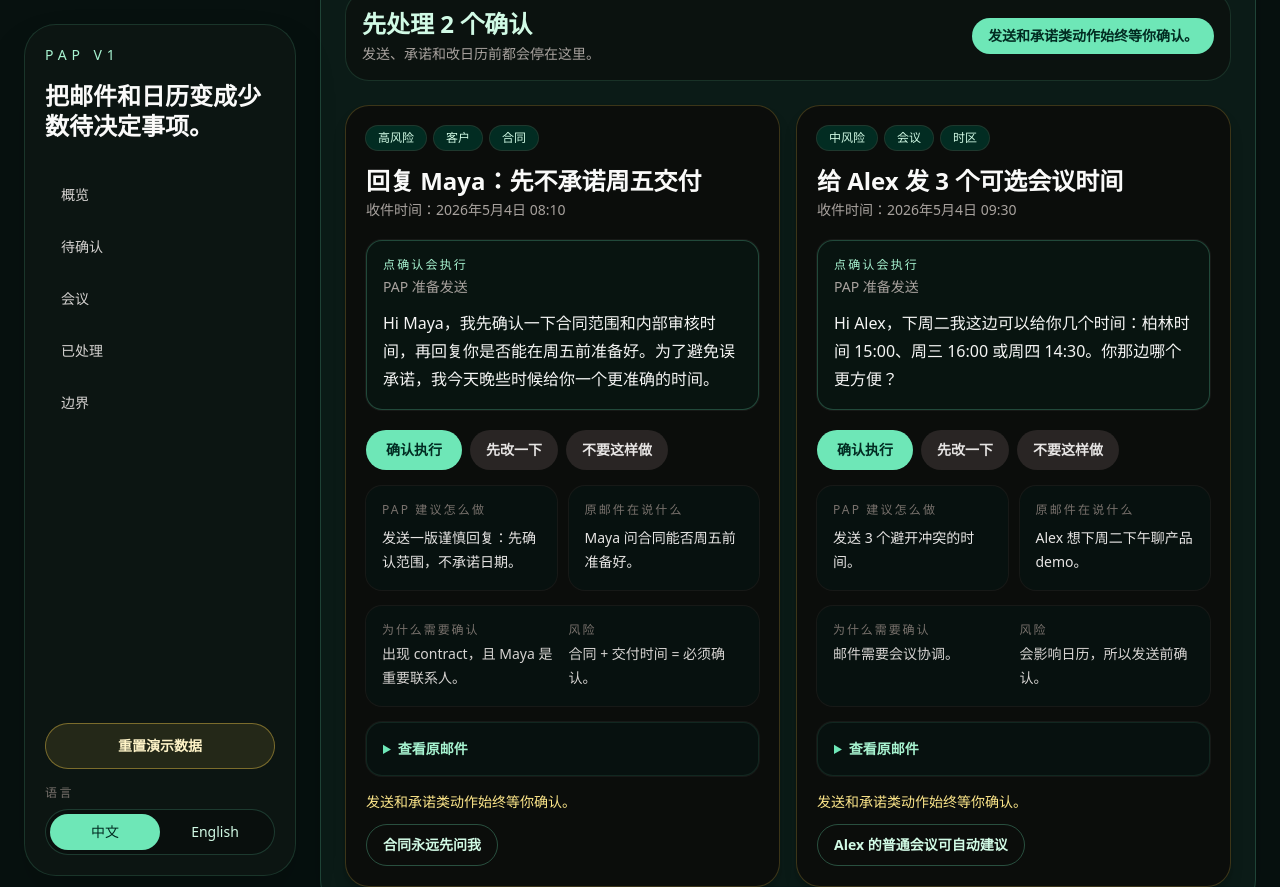
Test: PAP dashboard › edits a pending action
(page scrolled)
Click the 1st button "先改一下" at x=514, y=450, box top-left (470, 430), bottom-right (558, 470)
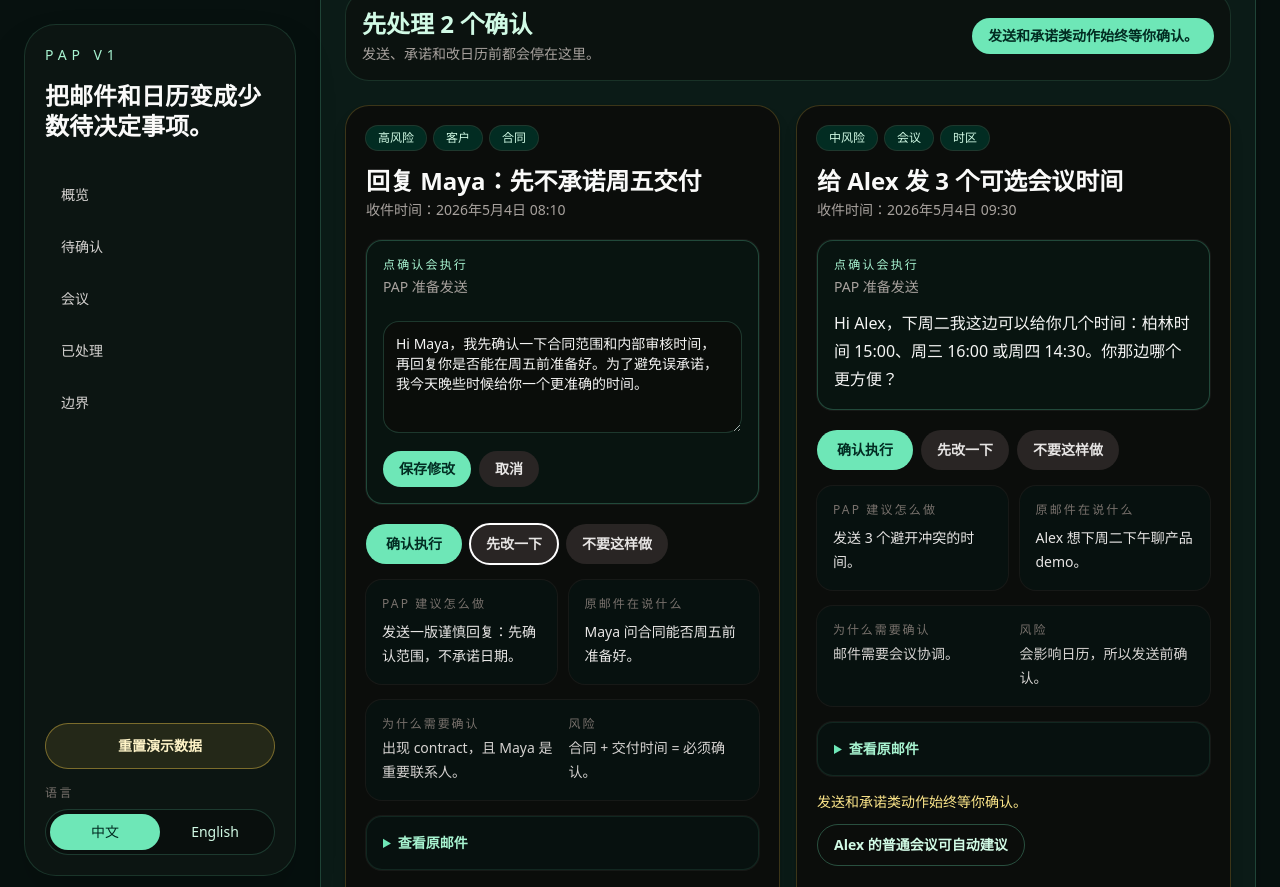
Replace the text in the text box named "修改建议内容" with "请先确认对方是否接受周三下午。" at x=562, y=377, box top-left (383, 321), bottom-right (742, 433)
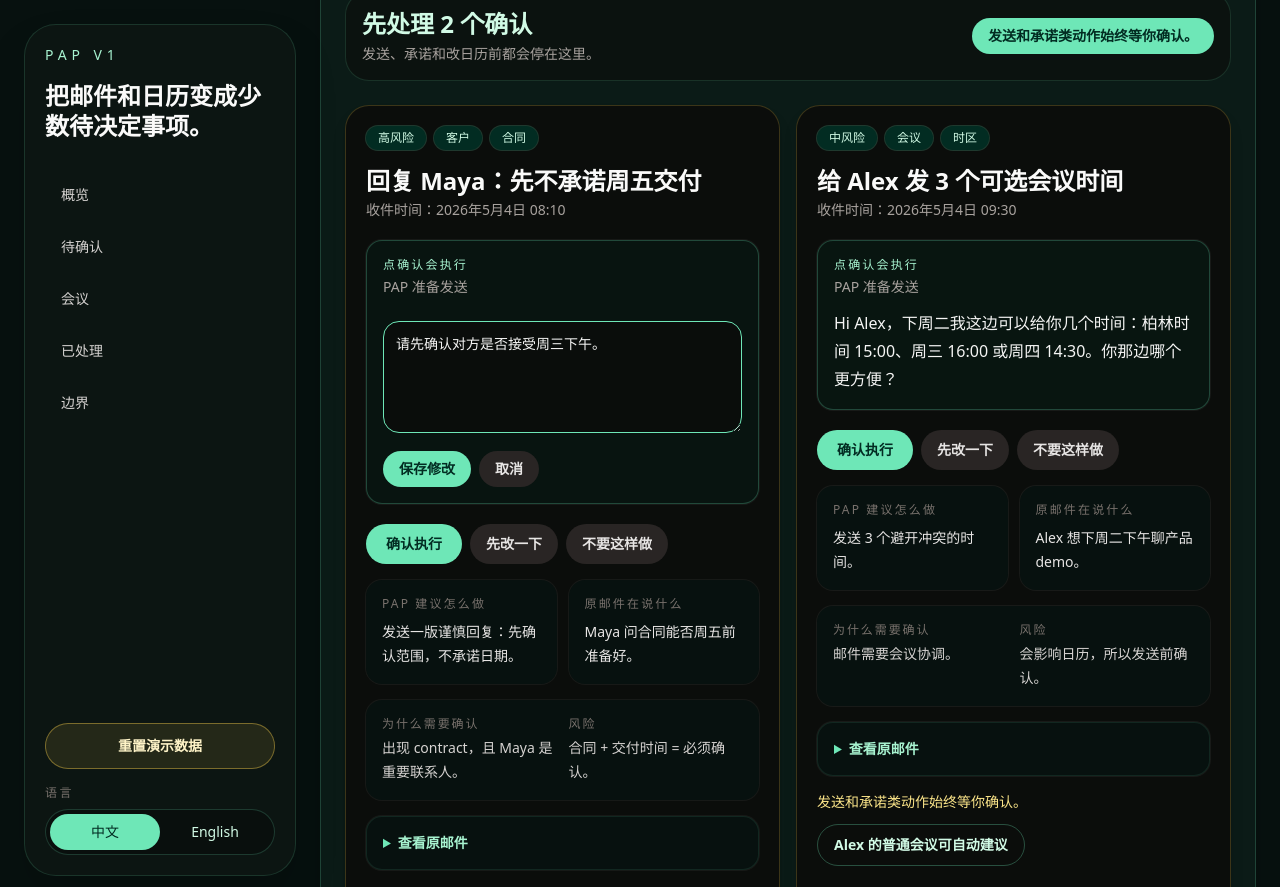
Click the button "保存修改" at x=427, y=469, box top-left (383, 451), bottom-right (471, 487)
(page scrolled)
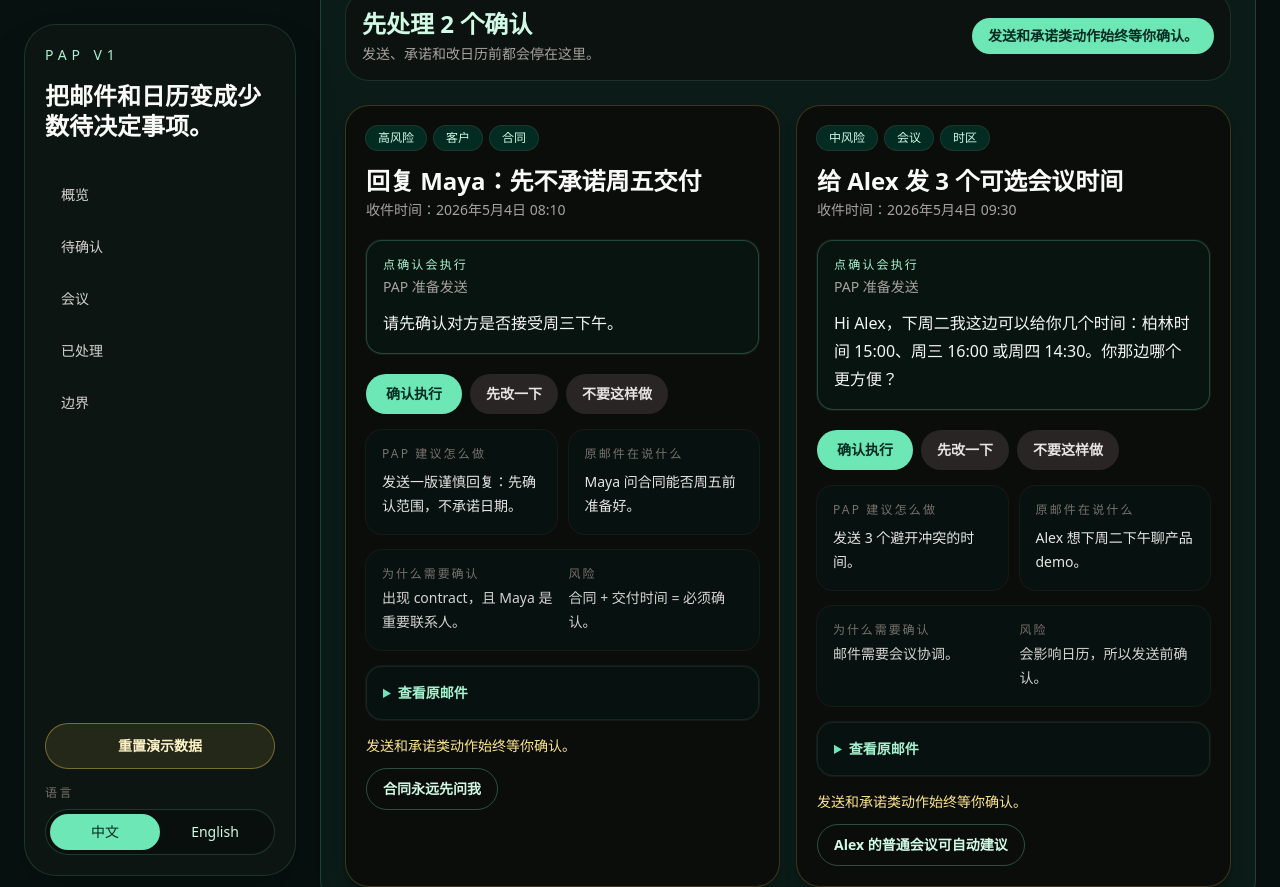
Expected: the text "请先确认对方是否接受周三下午。" is shown, top-left (383, 312), bottom-right (623, 334)
